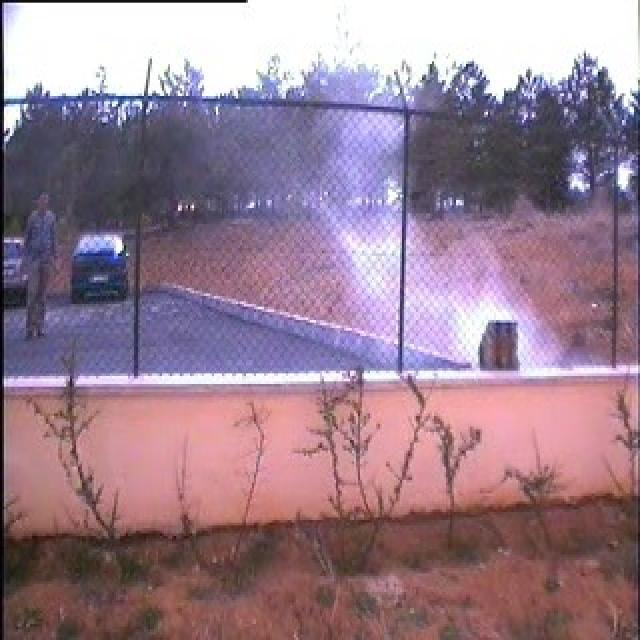Smoke: (318, 108, 556, 370)
